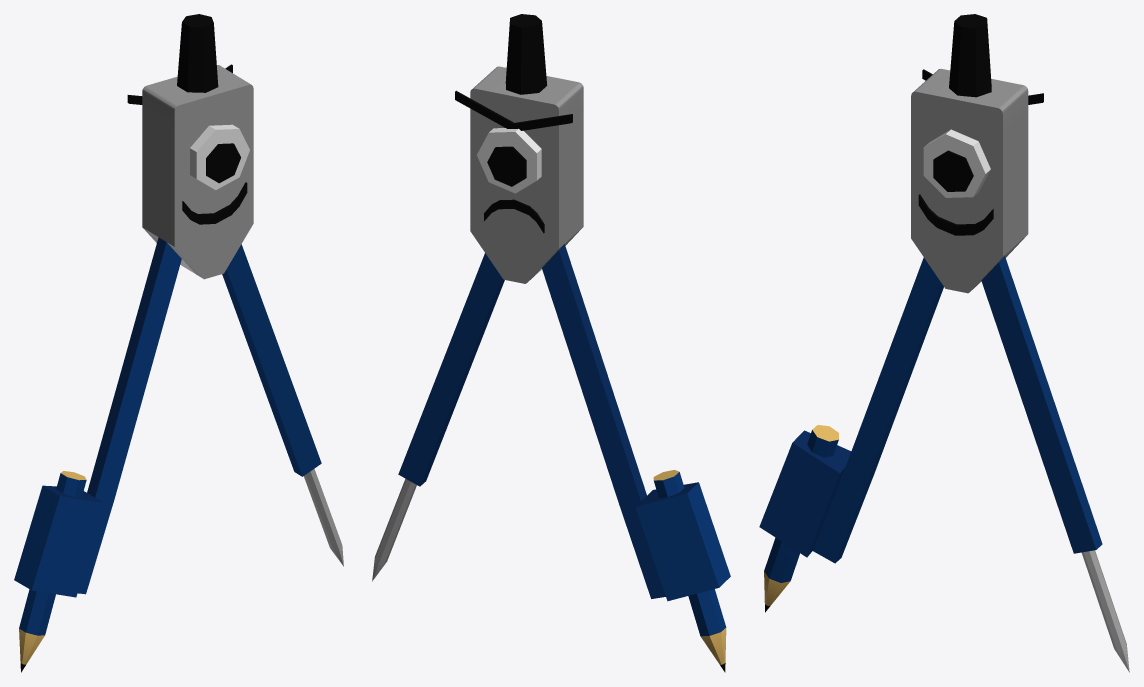
The model's file is konpasusayu.fbx.
3 views of the same model, side by side, from view 1: azimuth 30°, elevation 25°; view 2: azimuth 150°, elevation 25°; view 3: azimuth 330°, elevation 25° (orthographic). The views are drawn at different scales.
Parts seen in each view (by area): view 1: pasted__pCube12; view 2: pasted__pCube12; view 3: pasted__pCube12.
Boxes of the visible parts, x1,y1,x2,y2 form: pasted__pCube12: (14, 14, 343, 672); pasted__pCube12: (372, 14, 730, 672); pasted__pCube12: (759, 14, 1129, 672).
Size of the model in its own units: 69.13 by 118 by 15.62.
